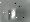person: (6, 8, 11, 20), (13, 9, 17, 20)
